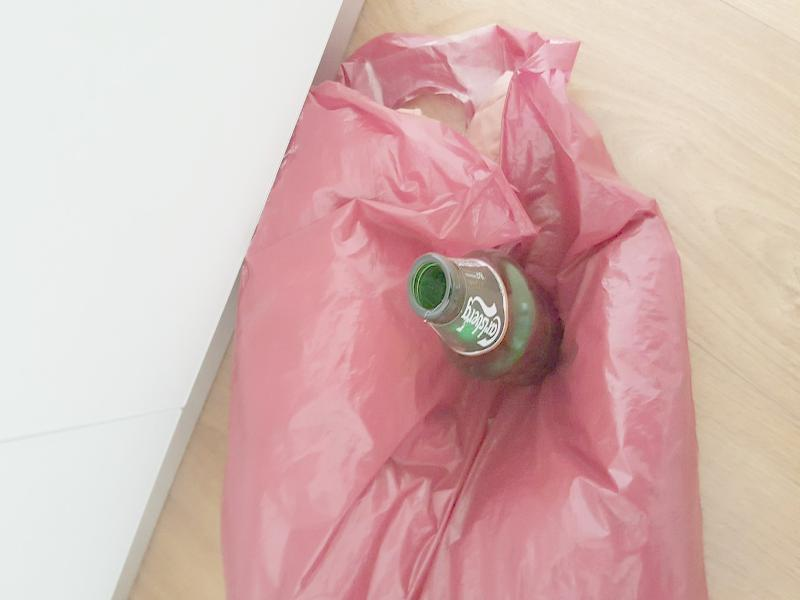Beer: (408, 252, 564, 380)
